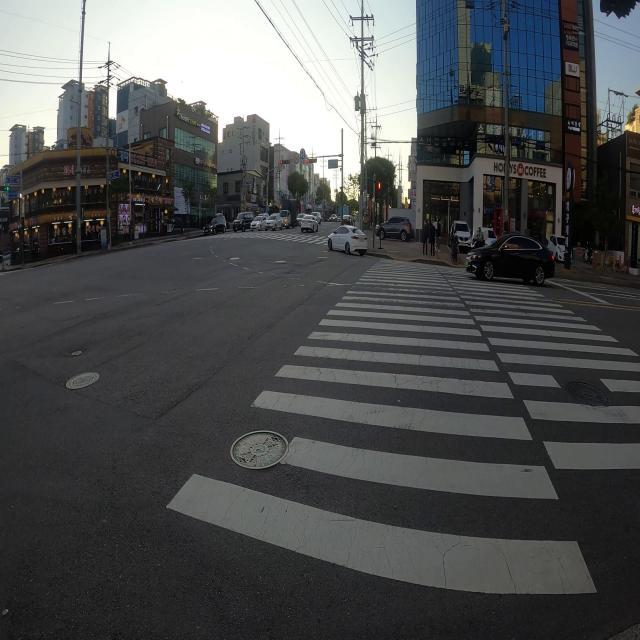crosswalk: (165, 257, 640, 593), (181, 231, 345, 246)
